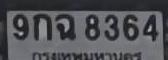3: (103, 13, 118, 40)
4: (142, 13, 157, 40)
6: (122, 12, 138, 40)
8: (84, 12, 99, 40)
9: (12, 13, 28, 39)
A01: (32, 12, 50, 40)
A09: (54, 13, 74, 39)
